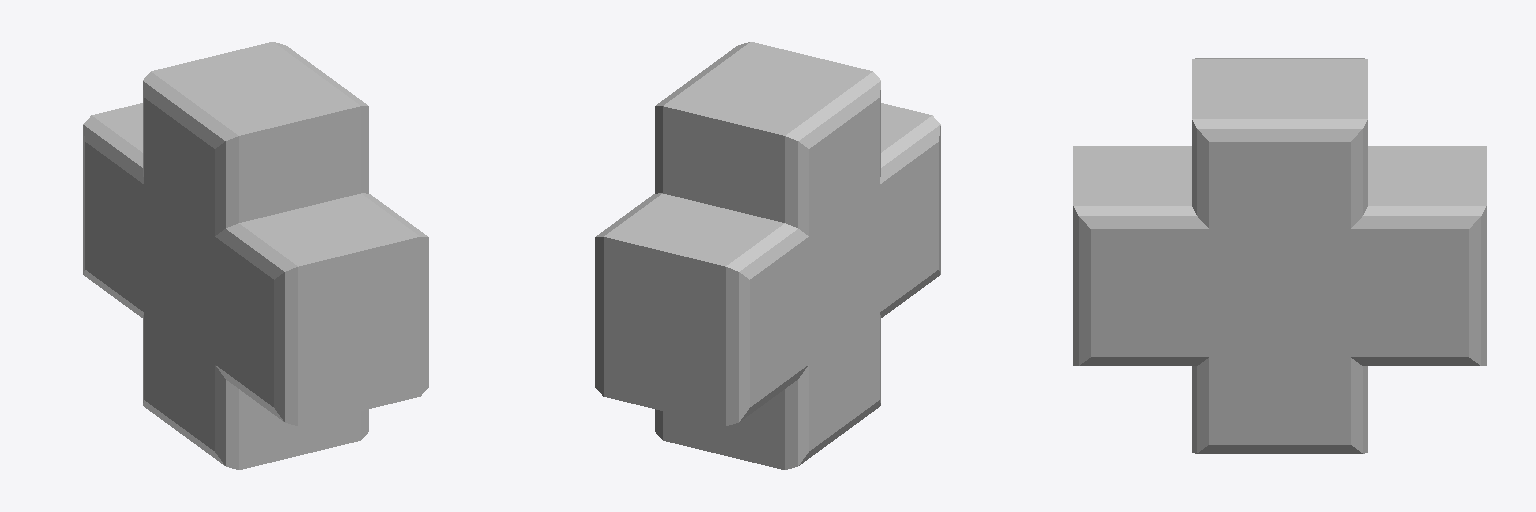
The model's file is HealthPack.obj.
3 views of the same model, side by side, from view 1: azimuth 30°, elevation 25°; view 2: azimuth 150°, elevation 25°; view 3: azimuth 270°, elevation 25° (orthographic).
Visible parts, largest first — view 1: HealthPack; view 2: HealthPack; view 3: HealthPack.
Part boxes in pixels (x1,y1,x2,y2): HealthPack: (83,42,428,469); HealthPack: (595,42,940,469); HealthPack: (1073,58,1486,453).
Size of the model in its own units: 0.231 by 0.4831 by 0.5409.